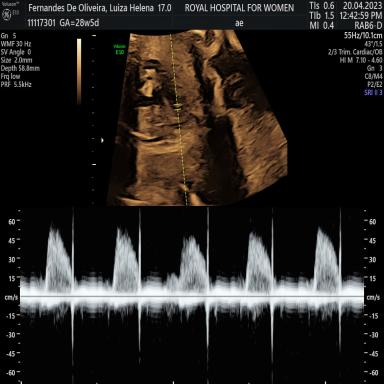Ultrasound-Waves: (27, 208, 363, 384)
